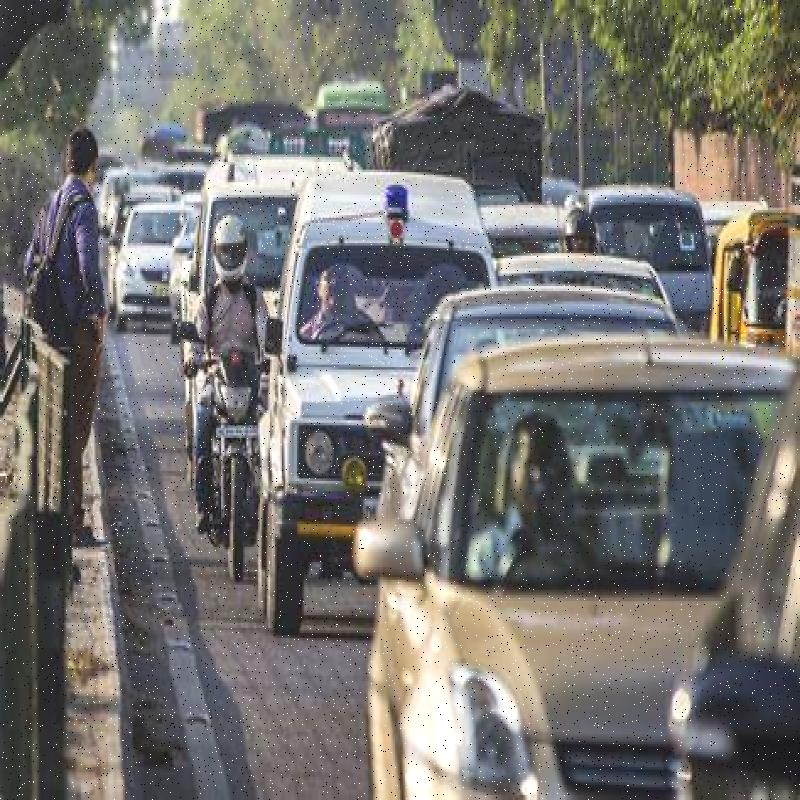AmbulanceSiren: (381, 170, 414, 242)
bike: (191, 345, 268, 587)
car: (374, 350, 800, 800)
